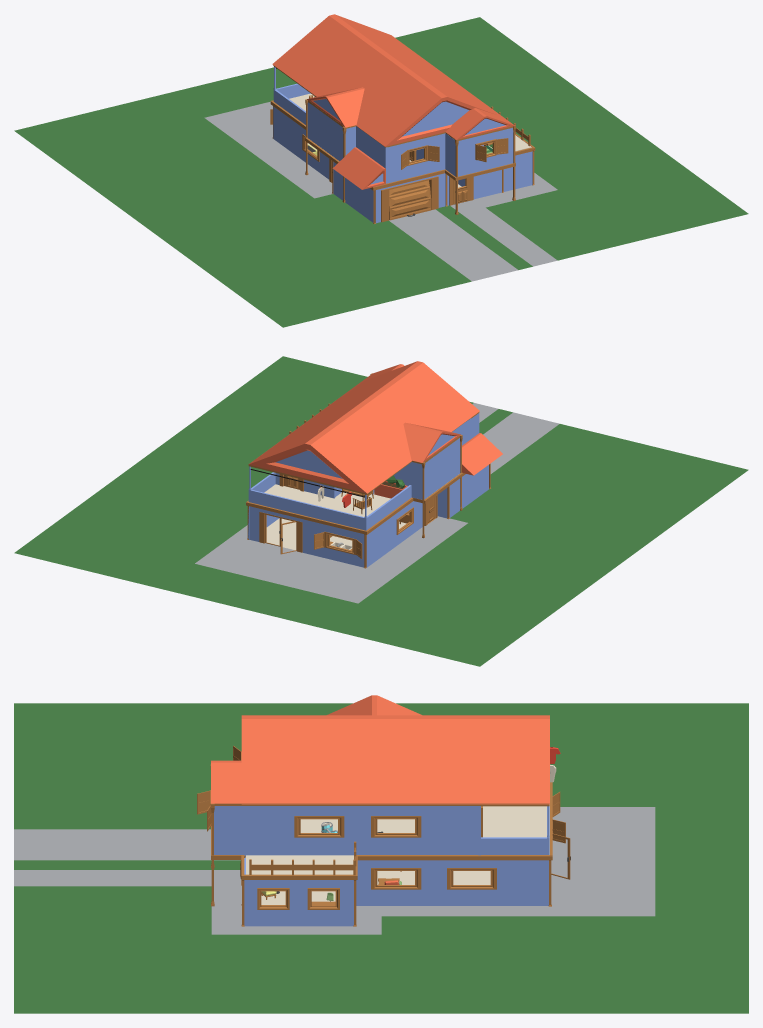
File: WholeSceneEnviro.fbx
3 renders of one model, top to bottom at view 1: azimuth 30°, elevation 25°; view 2: azimuth 150°, elevation 25°; view 3: azimuth 270°, elevation 25°, orthographic. The views are drawn at different scales.
Parts seen in each view (by area): view 1: Grass, Roof, Cement, DrivewayCemeent, Wall_2_Doors, Wall_2_Windows4, Wall_2_Windows3, Wall_1_Window_1_Door, Roof4, Wall7, Roof5, Roof3 (+5 smaller); view 2: Grass, Roof (×2), Cement, Balcony_Railing, DrivewayCemeent, Wall_1_Window_1_Door1, Wall_1_Window_1_Door, Wall7, Roof5, Wall, Roof4, WoodInterior (+3 smaller); view 3: Grass, Roof (×2), Cement, Wall_2_Windows2, Wall_2_Windows1, DrivewayCemeent, Wall_2_Windows, Roof3, WoodInterior, Balcony_Railing, DecorativeBeam7, Roof5 (+6 smaller).
Boxes of the visible parts, <box> form: Grass: <box>14,17,748,327</box>; Roof: <box>272,14,499,146</box>; Cement: <box>204,101,557,266</box>; DrivewayCemeent: <box>389,209,518,281</box>; Wall_2_Doors: <box>375,151,532,223</box>; Wall_2_Windows4: <box>387,133,445,183</box>; Wall_2_Windows3: <box>455,128,513,176</box>; Wall_1_Window_1_Door: <box>273,106,329,179</box>; Roof4: <box>332,147,385,189</box>; Wall7: <box>307,102,343,161</box>; Roof5: <box>307,87,364,127</box>; Roof3: <box>445,101,514,139</box>; Grass: <box>14,356,748,666</box>; Roof (×2): <box>248,361,479,516</box>; Cement: <box>195,403,498,603</box>; Balcony_Railing: <box>248,466,411,530</box>; DrivewayCemeent: <box>483,412,559,473</box>; Wall_1_Window_1_Door1: <box>250,506,364,567</box>; Wall_1_Window_1_Door: <box>366,501,422,567</box>; Wall7: <box>421,438,460,499</box>; Roof5: <box>403,422,460,462</box>; Wall: <box>449,465,488,517</box>; Roof4: <box>462,433,502,475</box>; WoodInterior: <box>266,518,406,550</box>; Grass: <box>14,703,748,1013</box>; Roof (×2): <box>241,715,549,874</box>; Cement: <box>14,807,655,934</box>; Wall_2_Windows2: <box>214,806,478,856</box>; Wall_2_Windows1: <box>356,860,548,905</box>; DrivewayCemeent: <box>14,829,240,860</box>; Wall_2_Windows: <box>244,880,353,926</box>; Roof3: <box>211,760,299,803</box>; WoodInterior: <box>261,871,490,904</box>; Balcony_Railing: <box>481,806,549,854</box>; DecorativeBeam7: <box>357,855,552,860</box>; Roof5: <box>327,695,421,715</box>.
Size of the model in its own units: 5312 by 1214 by 5312.
